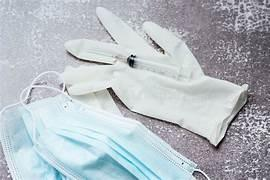Glove: (62, 8, 247, 144)
Mask: (19, 94, 196, 179)
Syringe: (88, 49, 182, 79), (115, 55, 180, 78)
